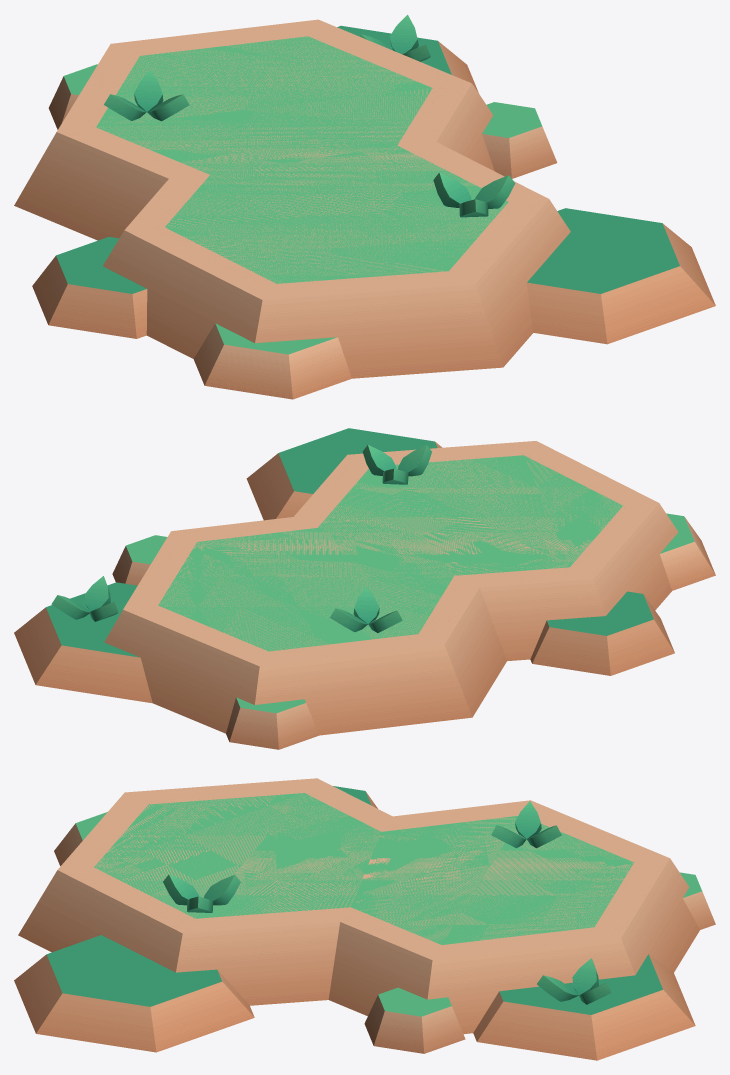
File: rock-flat-grass.002_lev3.glb
3 views of the same model, one above another, from view 1: azimuth 30°, elevation 25°; view 2: azimuth 150°, elevation 25°; view 3: azimuth 270°, elevation 25° (orthographic). The views are drawn at different scales.
Visible parts, largest first — view 1: rock-flat-grass.002_lev3; view 2: rock-flat-grass.002_lev3; view 3: rock-flat-grass.002_lev3.
Part boxes in pixels (x1,y1,x2,y2): rock-flat-grass.002_lev3: (14, 14, 715, 399); rock-flat-grass.002_lev3: (14, 428, 715, 749); rock-flat-grass.002_lev3: (14, 778, 715, 1060).
Bounding box in the file's own units: 12.52 × 1.94 × 14.43.
Materials: 1 (1 with a texture image).
